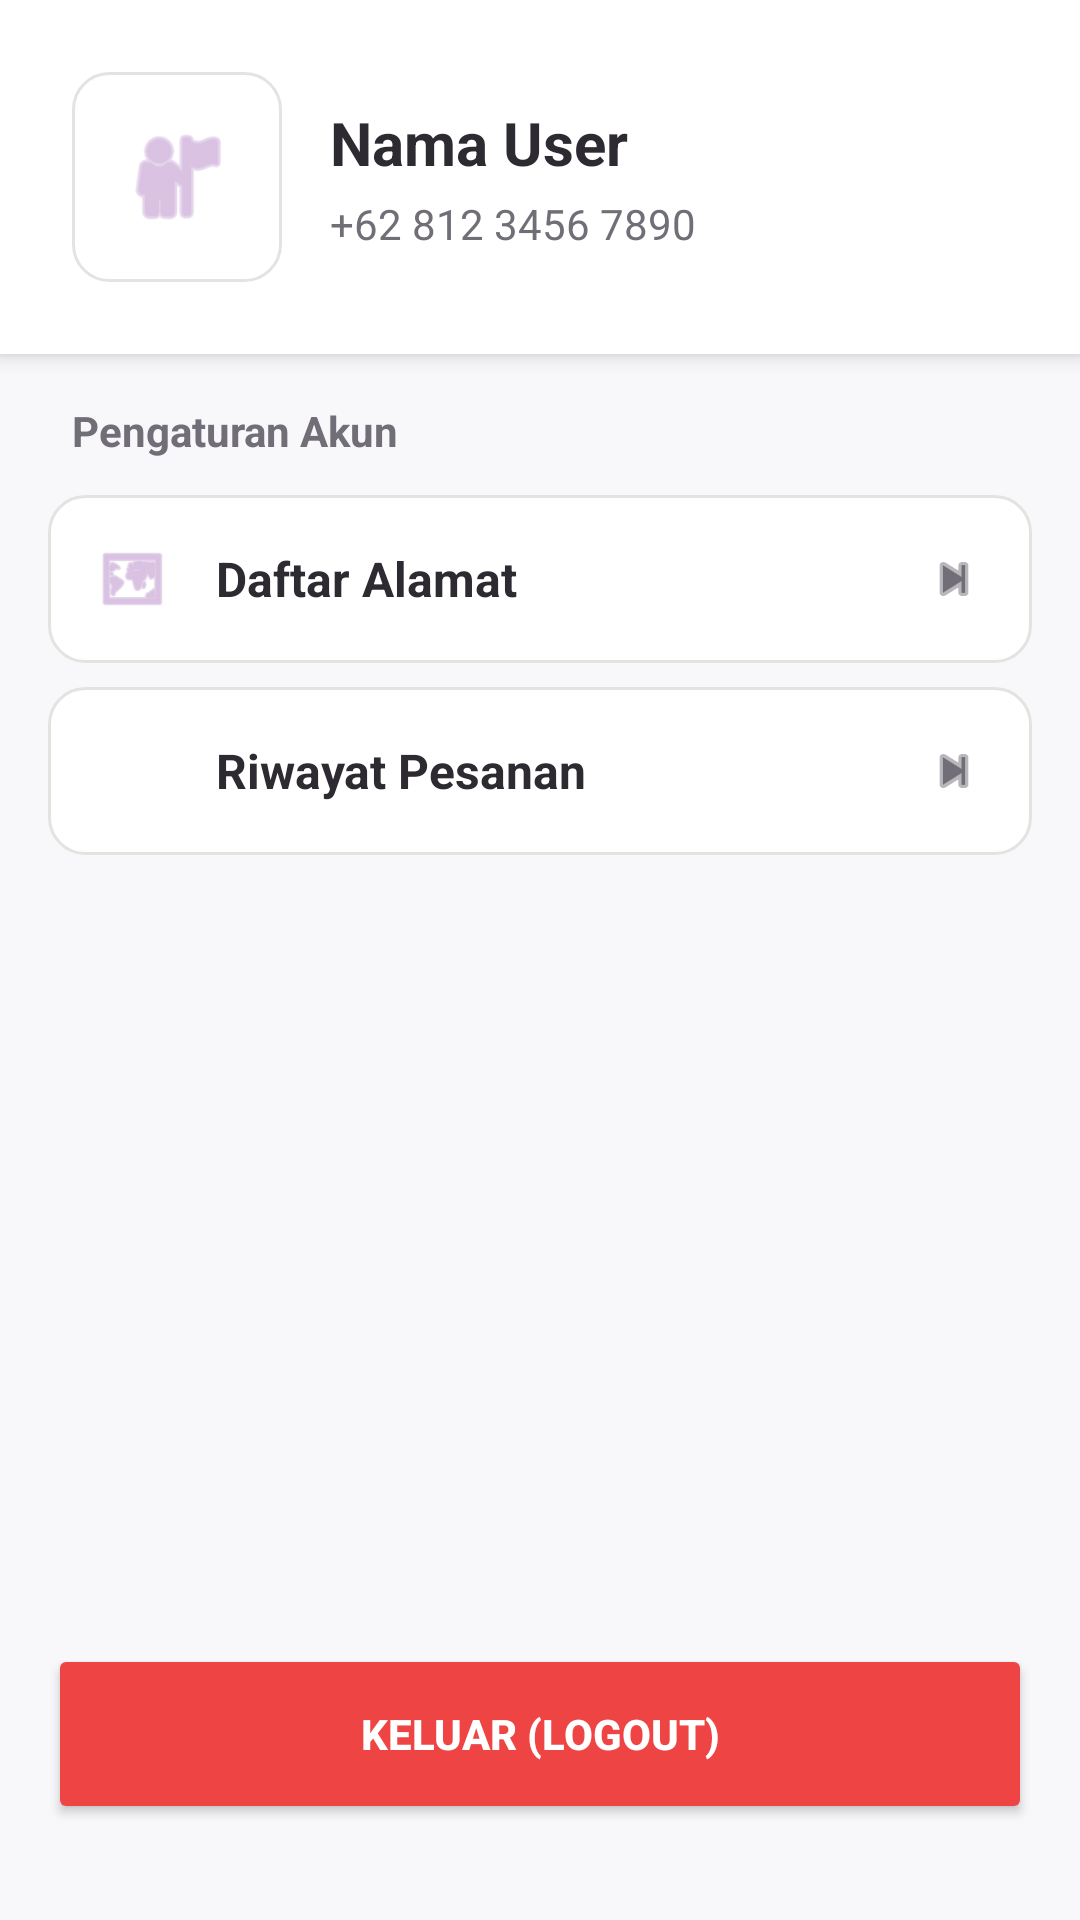

Locate icon controls on the screen. Image size 1080 x 1920, boxes as {"left": x1, "top": y1, "right": x2, "bottom": y2}.
mapmode: {"left": 103, "top": 553, "right": 162, "bottom": 605}
next: {"left": 940, "top": 562, "right": 968, "bottom": 596}, {"left": 940, "top": 754, "right": 968, "bottom": 788}
